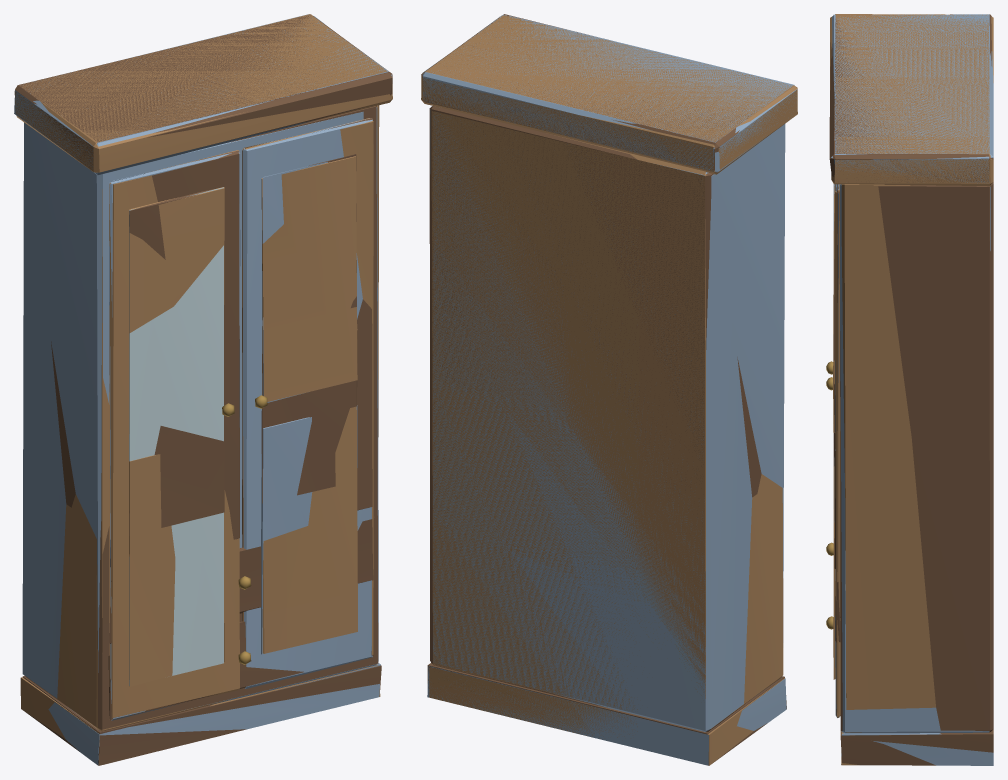
Rendered from wardrobe.glb.
The picture shows the model from 3 angles, left to right: view 1: azimuth 30°, elevation 25°; view 2: azimuth 150°, elevation 25°; view 3: azimuth 270°, elevation 25°; orthographic projection.
Parts seen in each view (by area): view 1: wardrobe.v0.mesh, wardrobe.v1.mesh, wardrobe.v2.mesh; view 2: wardrobe.v0.mesh, wardrobe.v1.mesh, wardrobe.v2.mesh; view 3: wardrobe.v0.mesh, wardrobe.v2.mesh, wardrobe.v1.mesh.
Part boxes in pixels (x1=…): wardrobe.v0.mesh: x1=14, y1=14, x2=392, y2=738; wardrobe.v1.mesh: x1=14, y1=14, x2=392, y2=765; wardrobe.v2.mesh: x1=15, y1=14, x2=392, y2=765; wardrobe.v0.mesh: x1=421, y1=15, x2=797, y2=765; wardrobe.v1.mesh: x1=422, y1=14, x2=797, y2=765; wardrobe.v2.mesh: x1=421, y1=14, x2=786, y2=763; wardrobe.v0.mesh: x1=826, y1=14, x2=993, y2=765; wardrobe.v2.mesh: x1=826, y1=14, x2=993, y2=765; wardrobe.v1.mesh: x1=831, y1=14, x2=993, y2=765.
Bounding box in the file's own units: 1 × 2 × 0.4932.
